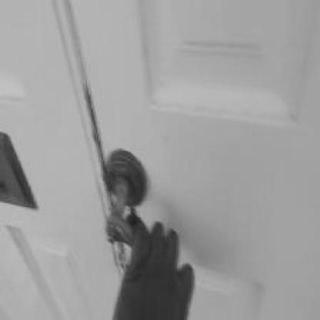other: (99, 150, 143, 236)
